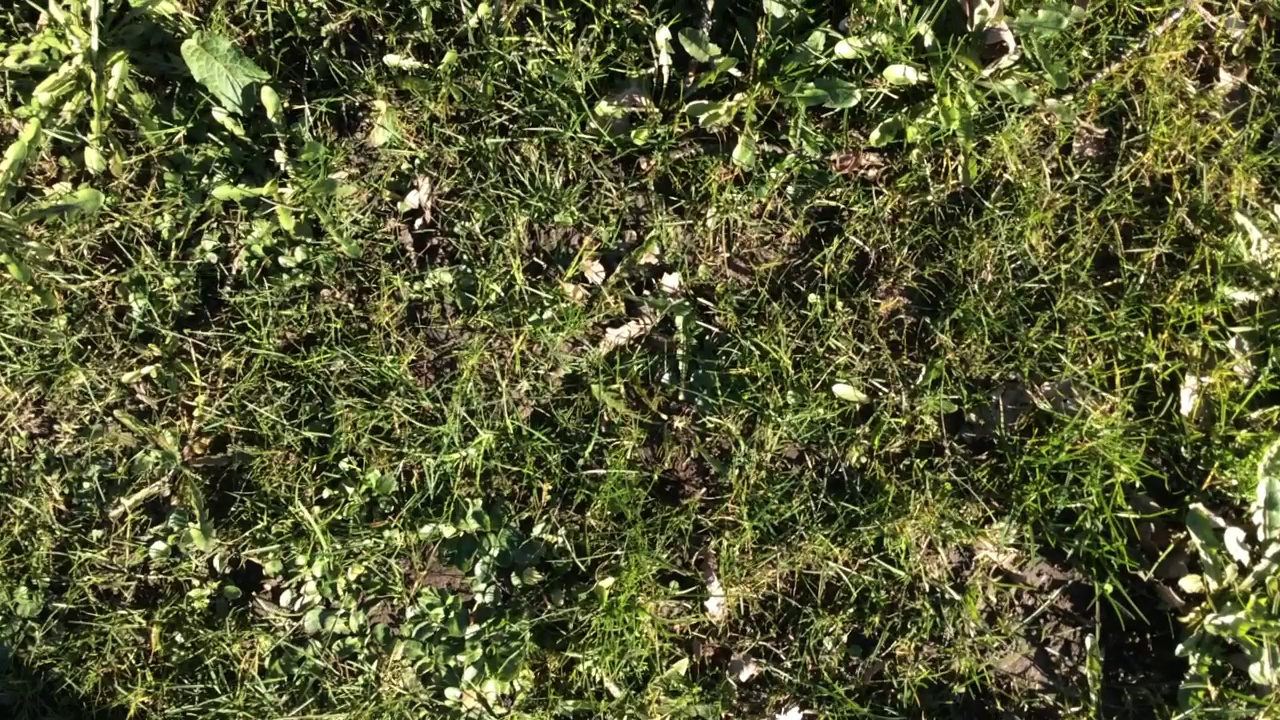rumex: (180, 31, 274, 115), (674, 28, 713, 57)
